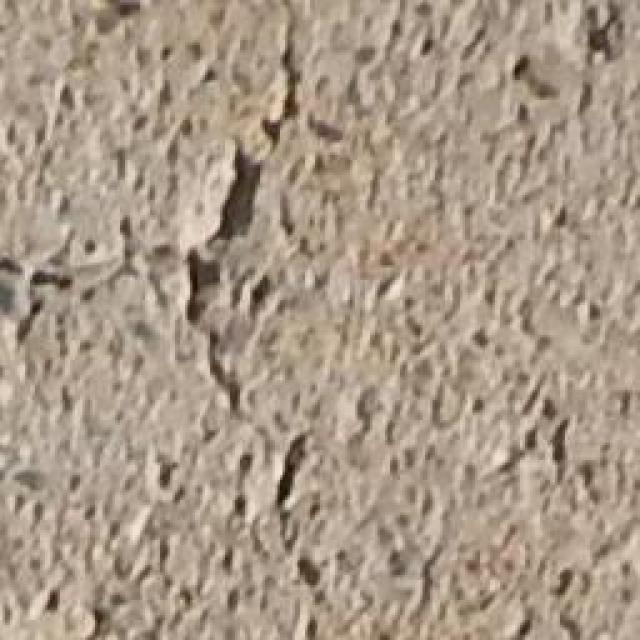concrete-crack: (169, 0, 332, 640)
